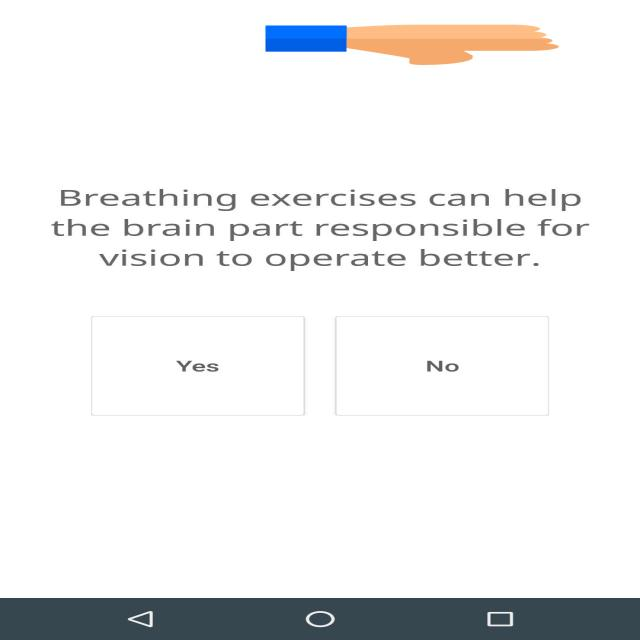obstruction: (265, 24, 559, 66)
